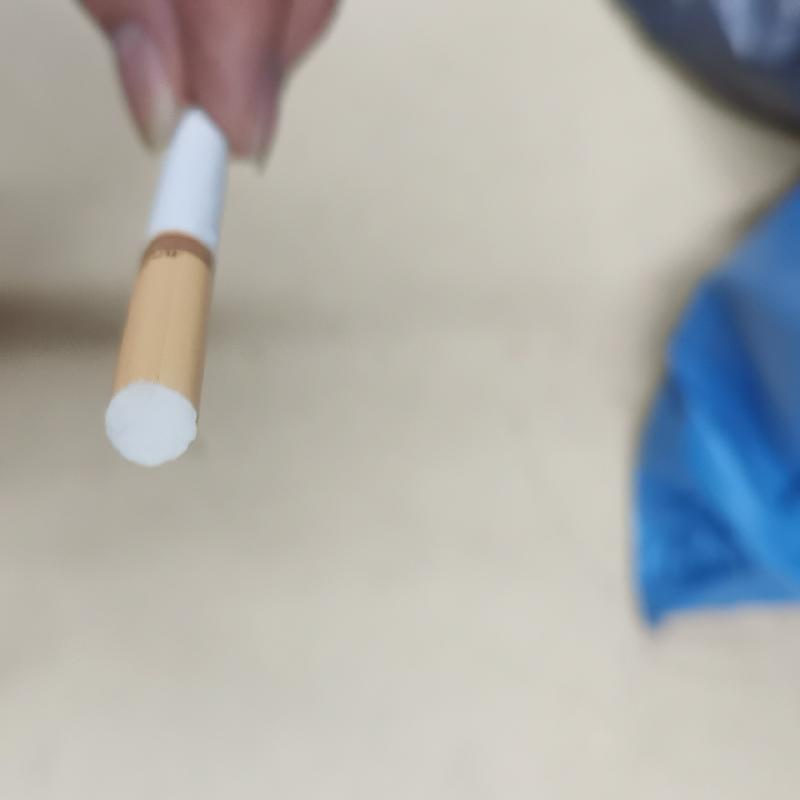cigarette: (100, 99, 238, 477)
